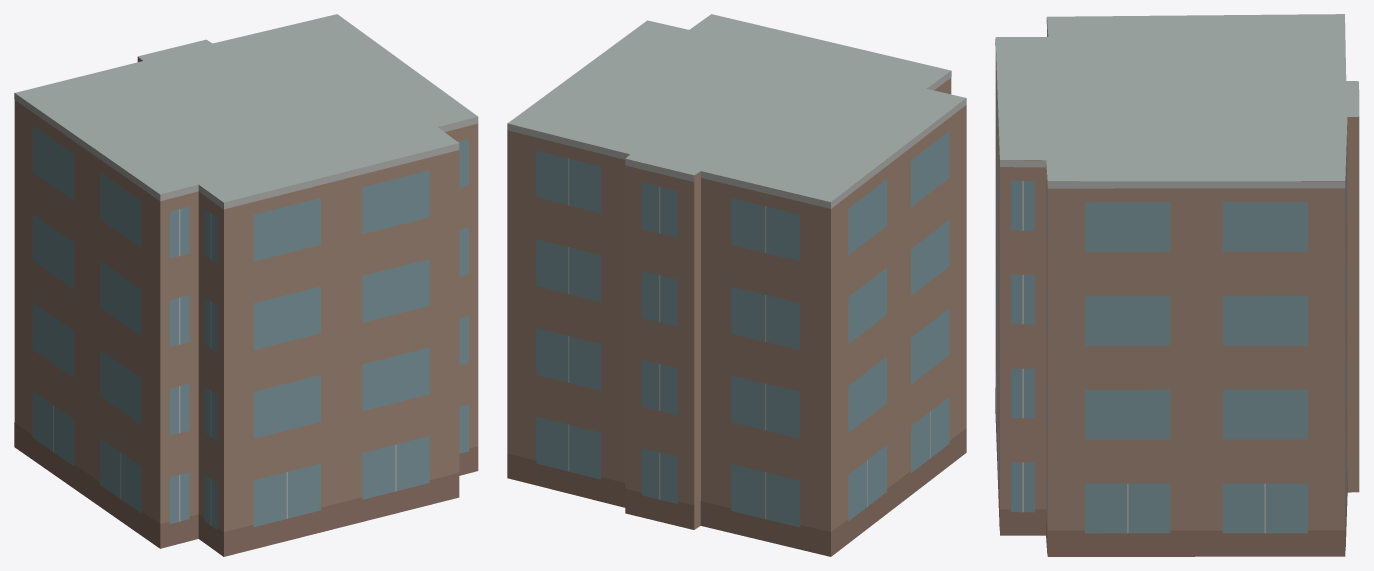
Rendered from survey-upis-32930794.glb.
The picture shows the model from 3 angles, left to right: view 1: azimuth 30°, elevation 25°; view 2: azimuth 150°, elevation 25°; view 3: azimuth 270°, elevation 25°; orthographic projection. The views are drawn at different scales.
Visible parts, largest first — view 1: survey-upis-32930794.tmp; view 2: survey-upis-32930794.tmp; view 3: survey-upis-32930794.tmp.
Part boxes in pixels (left/top/right/bottom): survey-upis-32930794.tmp: left=14, top=14, right=478, bottom=556; survey-upis-32930794.tmp: left=507, top=14, right=966, bottom=556; survey-upis-32930794.tmp: left=995, top=14, right=1359, bottom=556.
Bounding box in the file's own units: 12.25 × 12.8 × 11.25.
